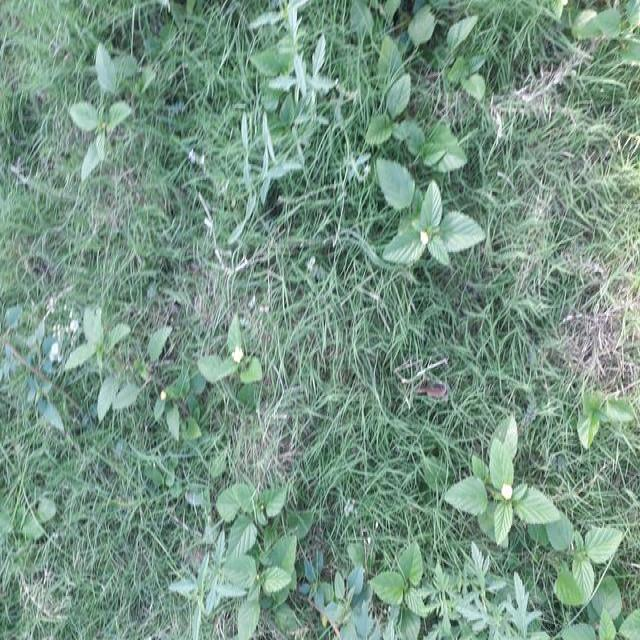weed: (52, 318, 284, 437), (380, 543, 634, 640), (442, 431, 550, 628), (364, 158, 483, 267), (218, 475, 302, 623), (262, 4, 346, 120), (363, 28, 432, 158), (233, 130, 320, 230), (69, 59, 136, 175)
